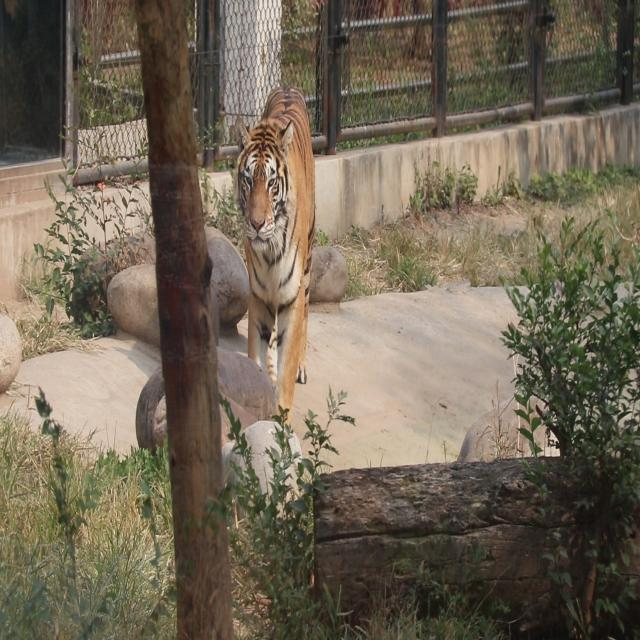Tiger: (231, 64, 350, 424)
